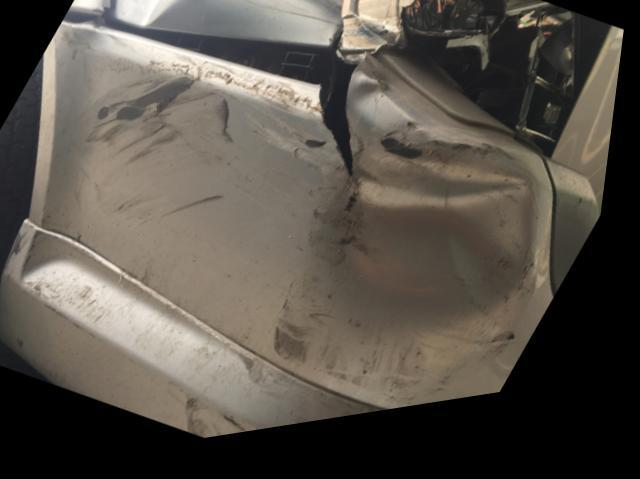crack: (323, 75, 364, 196)
dent: (313, 137, 548, 355), (248, 0, 347, 51)
scratch: (192, 271, 481, 446), (75, 60, 327, 229)
